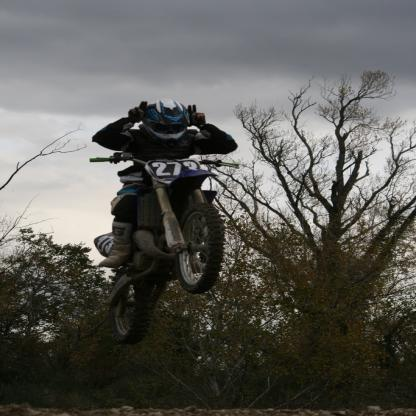Helmet: (136, 98, 197, 137)
